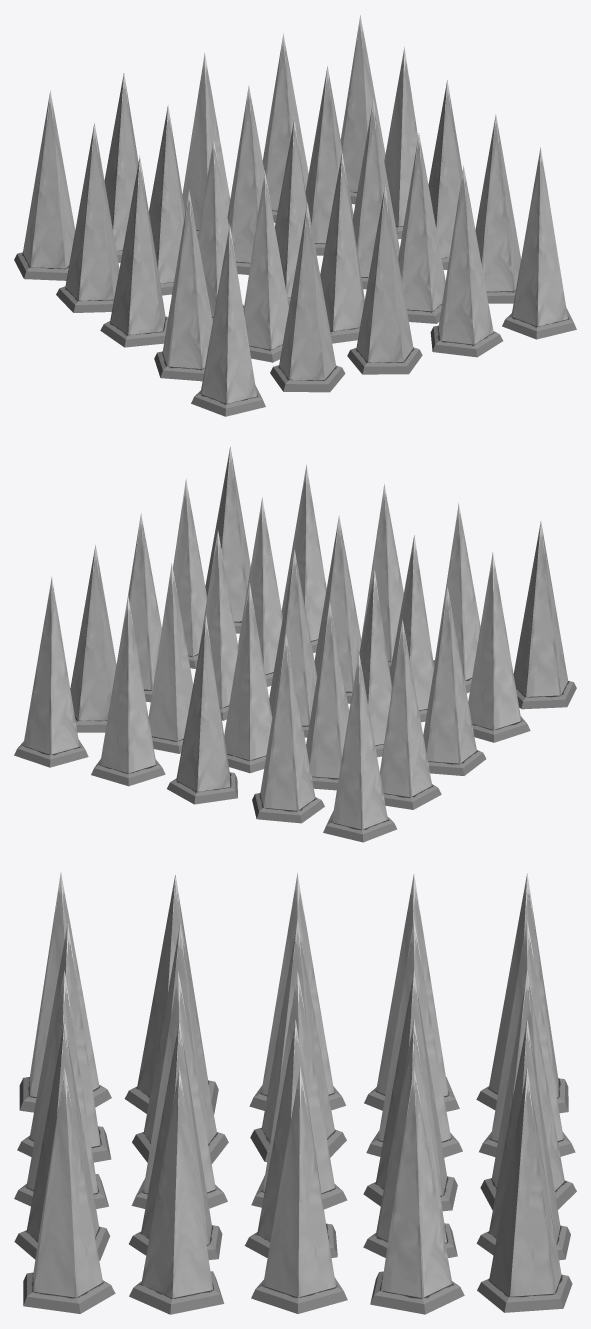
Rendered from block_spikes.fbx.
3 renders of one model, top to bottom at view 1: azimuth 30°, elevation 25°; view 2: azimuth 150°, elevation 25°; view 3: azimuth 270°, elevation 25°, orthographic. The views are drawn at different scales.
Parts seen in each view (by area): view 1: block_spikes; view 2: block_spikes; view 3: block_spikes.
Boxes of the visible parts, box(x1,y1,x2,y2) form: block_spikes: box(14, 15, 576, 416); block_spikes: box(14, 446, 576, 842); block_spikes: box(14, 872, 576, 1314).
Size of the model in its own units: 192 by 85.58 by 192.
Materials: 1 (1 with a texture image).
